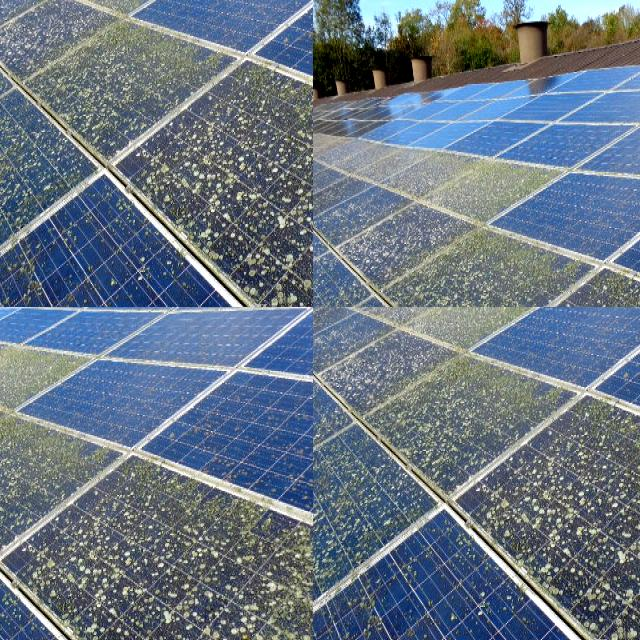bird: (7, 382, 152, 640)
crack: (61, 0, 313, 281), (155, 96, 313, 307)
dust: (318, 528, 497, 640), (384, 356, 466, 494), (537, 500, 640, 591), (313, 388, 362, 560), (536, 430, 640, 502), (313, 307, 420, 366)
